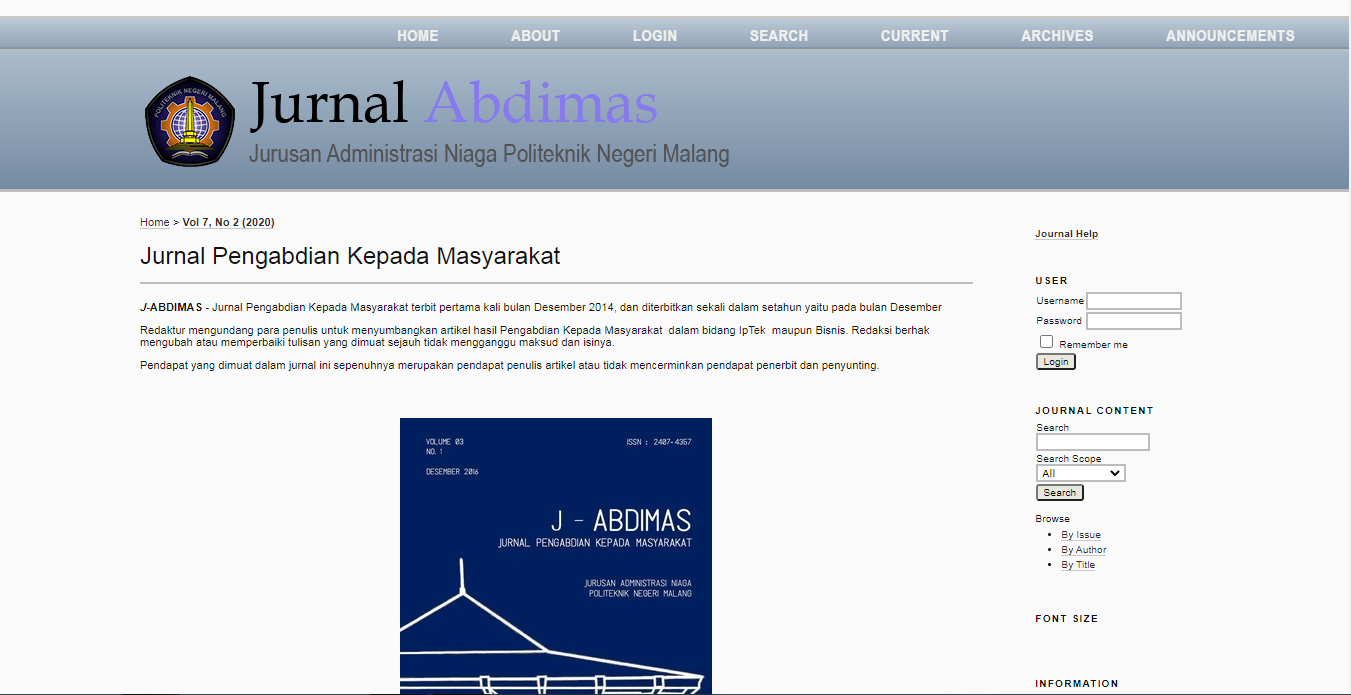Button: (1032, 352, 1081, 370), (1034, 485, 1083, 503)
Image: (397, 415, 711, 695), (139, 70, 239, 169)
Menu Bar: (389, 16, 1319, 50)
Nav Bar: (1059, 541, 1107, 560), (1057, 556, 1105, 575), (1056, 526, 1108, 542)
Side Bar: (989, 215, 1220, 690)
Text Field: (1031, 429, 1154, 454), (1086, 310, 1185, 331), (1084, 291, 1184, 309)
